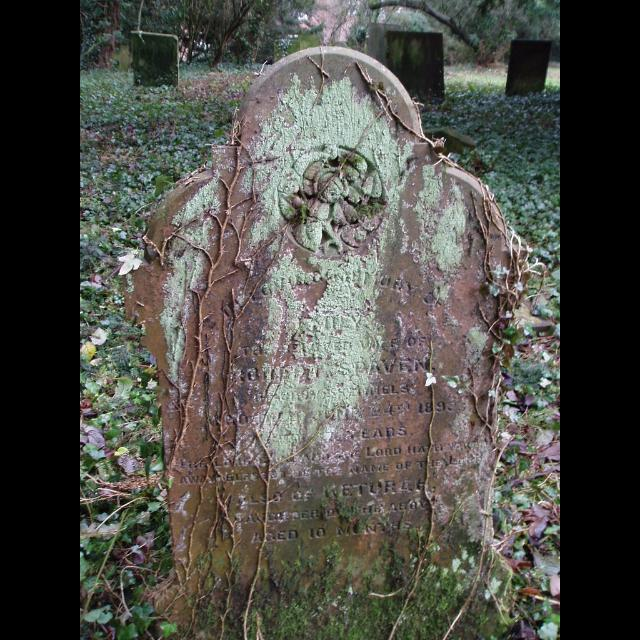Flower: (115, 250, 136, 276)
